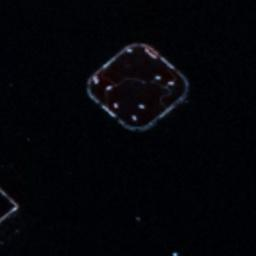square_bigger: (81, 38, 195, 134)
